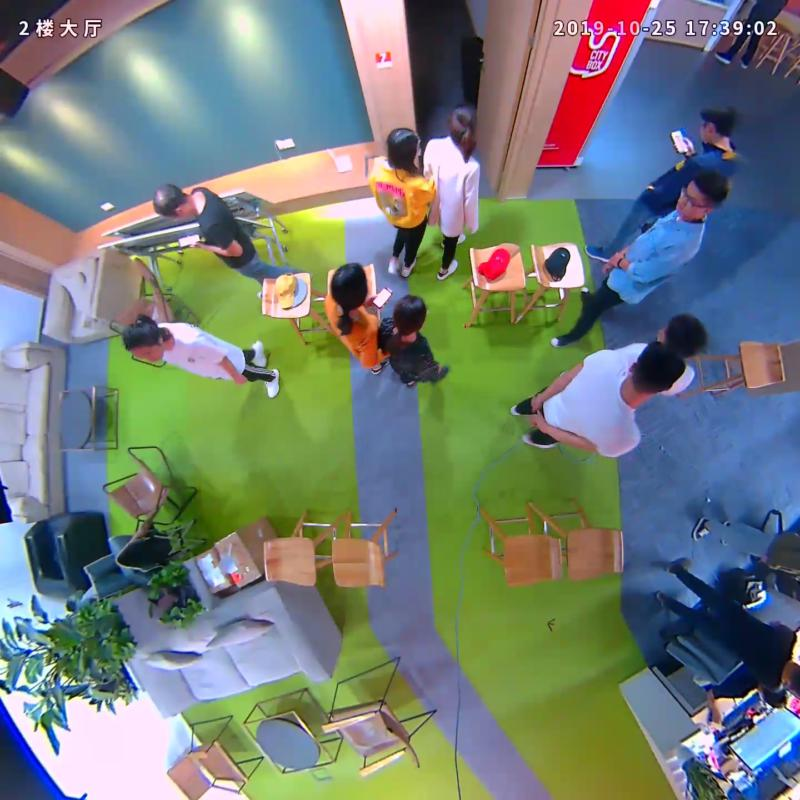head: (628, 340, 686, 400), (676, 171, 729, 220), (122, 313, 166, 362), (658, 315, 707, 357), (330, 263, 368, 309), (699, 102, 735, 147), (151, 183, 192, 220), (393, 293, 428, 333), (387, 126, 421, 167), (448, 103, 477, 141)
